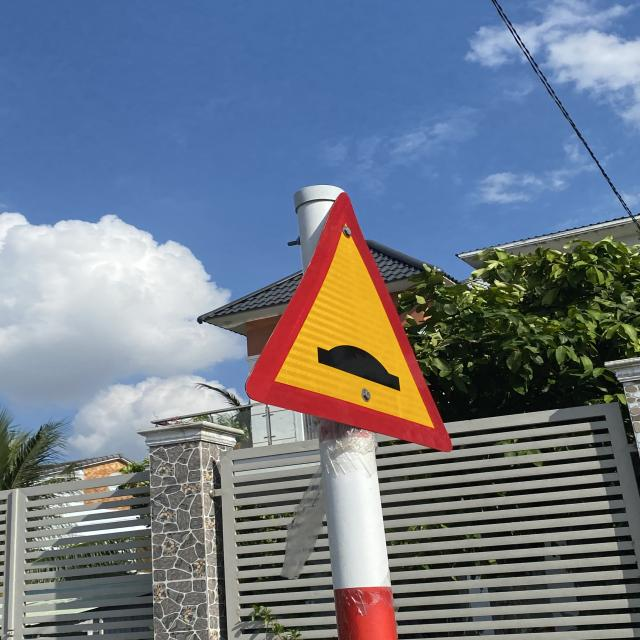Duong_Cong_Ben_Phai: (247, 190, 455, 451)
